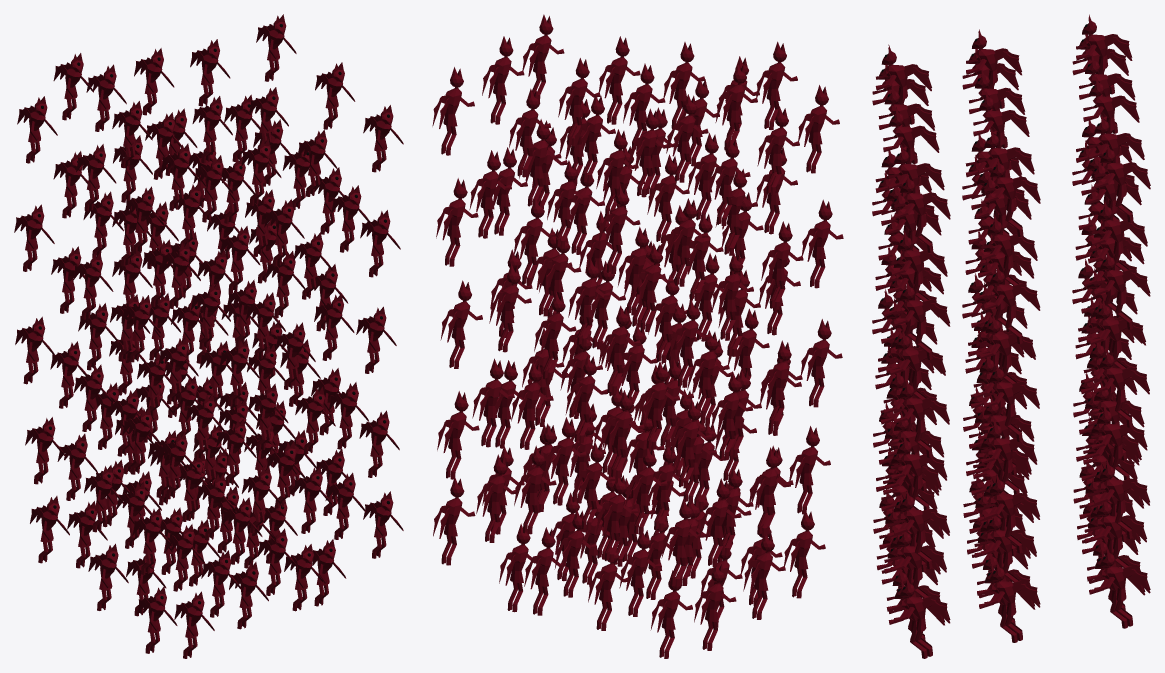
The model's file is Swarm.fbx.
3 views of the same model, side by side, from view 1: azimuth 30°, elevation 25°; view 2: azimuth 150°, elevation 25°; view 3: azimuth 270°, elevation 25° (orthographic). The views are drawn at different scales.
Visible parts, largest first — view 1: Swarm; view 2: Swarm; view 3: Swarm.
Boxes of the visible parts, x1,y1,x2,y2 form: Swarm: [14, 14, 403, 658]; Swarm: [432, 14, 843, 658]; Swarm: [872, 14, 1150, 658].
Bounding box in the file's own units: 3538 × 6511 × 2866.
